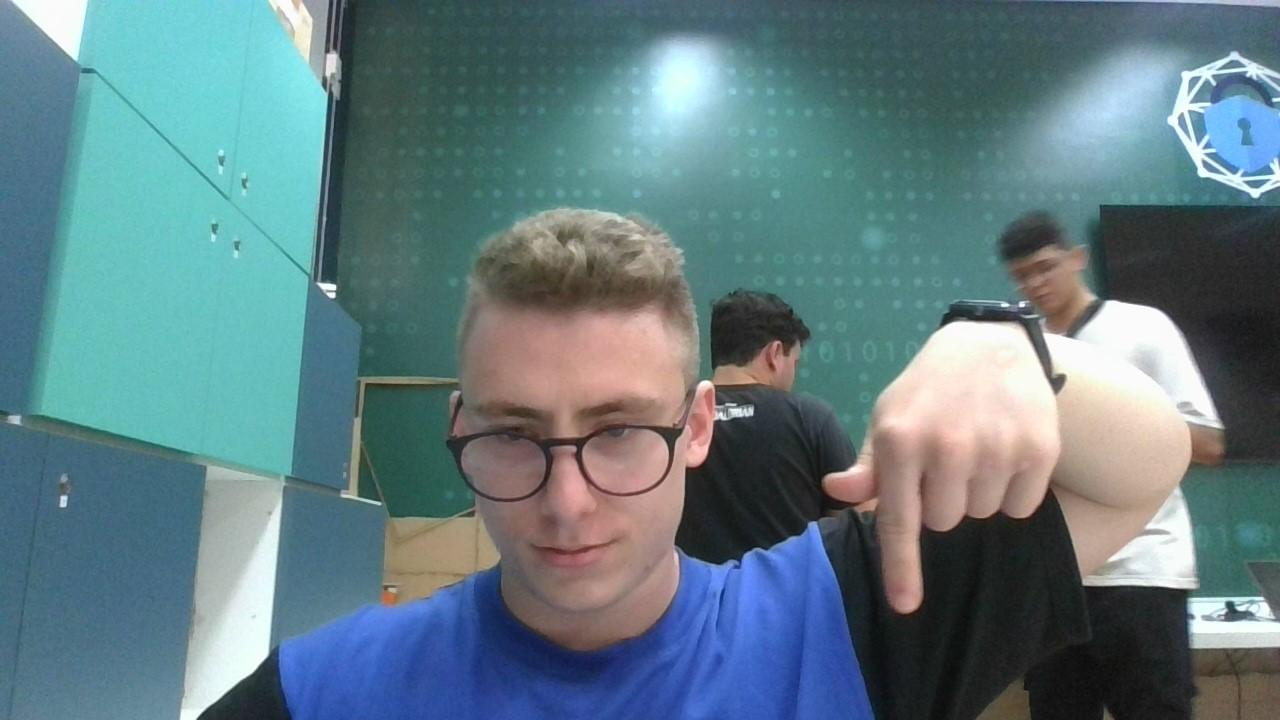Q: (818, 316, 1066, 628)
